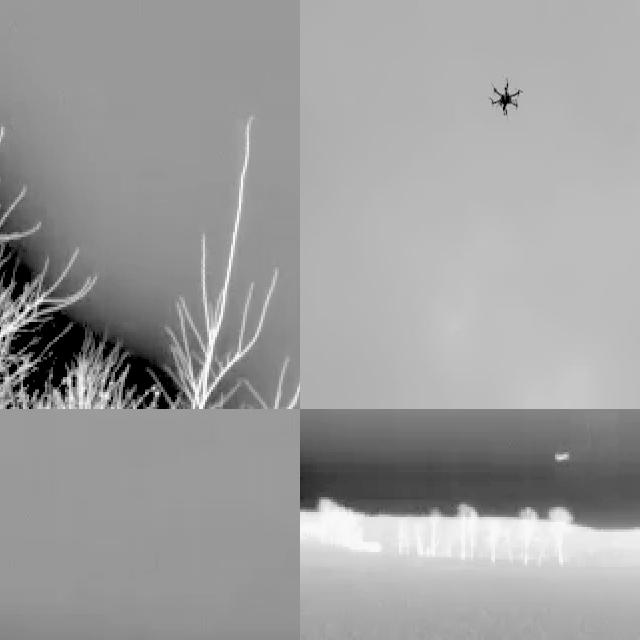1: (543, 441, 585, 478)
drone: (486, 76, 526, 119)
